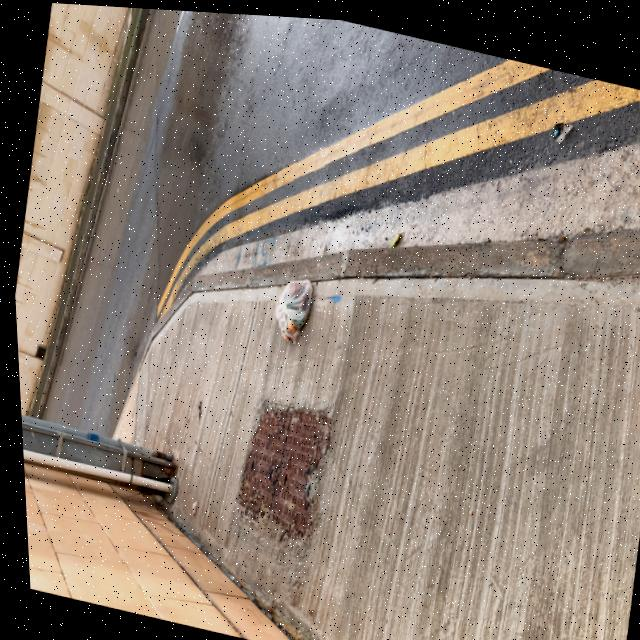Organic Waste -White Bag-: (255, 261, 320, 346)
